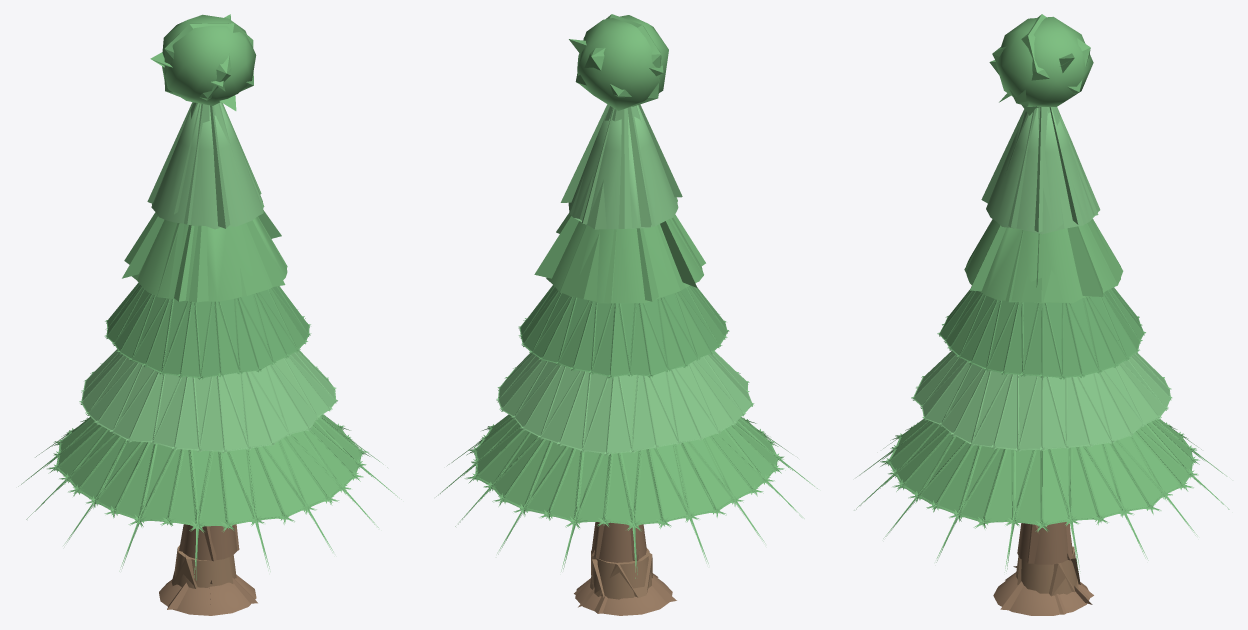
File: tree.glb
3 renders of one model, left to right at view 1: azimuth 30°, elevation 25°; view 2: azimuth 150°, elevation 25°; view 3: azimuth 270°, elevation 25°, orthographic.
Visible parts, largest first — view 1: Tree_LOD3_mesh, Tree_LOD0_mesh, Tree_LOD1_mesh, Tree_LOD2_mesh; view 2: Tree_LOD3_mesh, Tree_LOD0_mesh, Tree_LOD1_mesh, Tree_LOD2_mesh; view 3: Tree_LOD0_mesh, Tree_LOD3_mesh, Tree_LOD1_mesh, Tree_LOD2_mesh.
Part boxes in pixels (x1,y1,x2,y2): Tree_LOD3_mesh: [58, 16, 359, 523]; Tree_LOD0_mesh: [18, 14, 401, 615]; Tree_LOD1_mesh: [31, 23, 366, 609]; Tree_LOD2_mesh: [57, 14, 361, 604]; Tree_LOD3_mesh: [477, 104, 775, 522]; Tree_LOD0_mesh: [436, 15, 817, 615]; Tree_LOD1_mesh: [447, 14, 790, 613]; Tree_LOD2_mesh: [477, 39, 777, 607]; Tree_LOD0_mesh: [854, 16, 1229, 615]; Tree_LOD3_mesh: [891, 60, 1191, 523]; Tree_LOD1_mesh: [867, 14, 1217, 614]; Tree_LOD2_mesh: [888, 53, 1191, 604].
Size of the model in its own units: 3.37 by 5.65 by 3.42.
